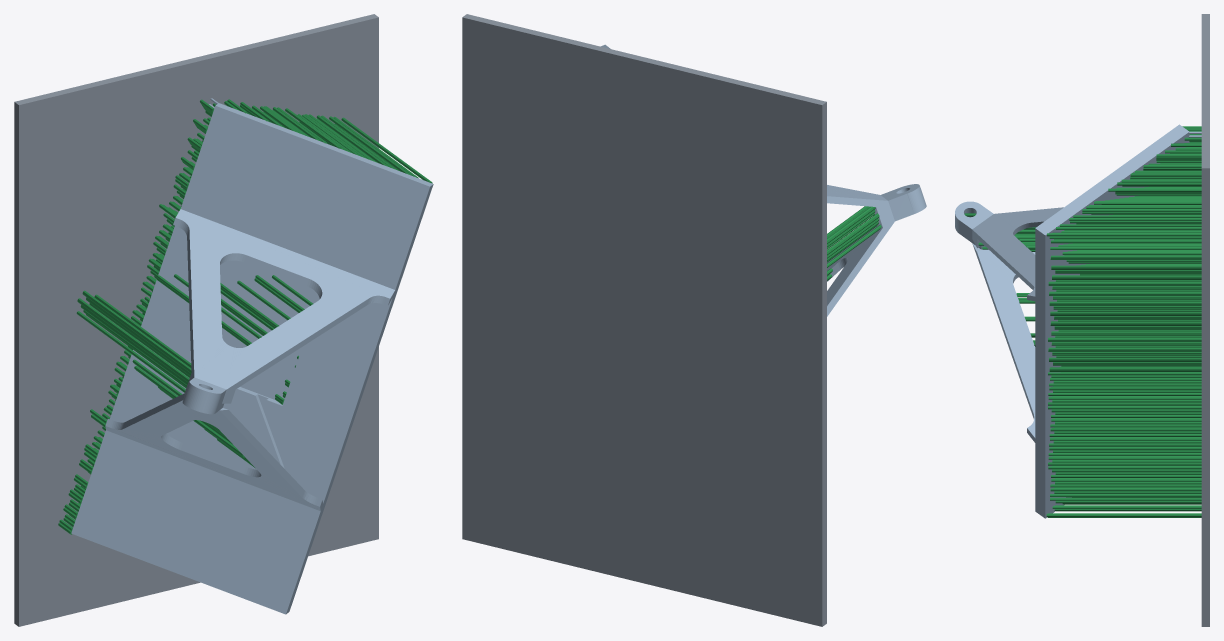
Rendered from part_with_simplified_supports_and_platform.obj.
The picture shows the model from 3 angles, left to right: view 1: azimuth 30°, elevation 25°; view 2: azimuth 150°, elevation 25°; view 3: azimuth 270°, elevation 25°; orthographic projection. The views are drawn at different scales.
Visible parts, largest first — view 1: Part, BuildPlate, SimplifiedSupportColumns; view 2: BuildPlate, Part, SimplifiedSupportColumns; view 3: SimplifiedSupportColumns, Part, BuildPlate.
Boxes of the visible parts, box(x1,y1,x2,y2) form: Part: box(67, 98, 433, 614); BuildPlate: box(14, 14, 378, 626); SimplifiedSupportColumns: box(58, 99, 432, 534); BuildPlate: box(462, 14, 826, 626); Part: box(600, 44, 926, 316); SimplifiedSupportColumns: box(827, 206, 881, 280); SimplifiedSupportColumns: box(964, 126, 1201, 517); Part: box(955, 124, 1201, 518); BuildPlate: box(1201, 14, 1209, 626).
Size of the model in its own units: 89.57 by 124 by 62.49.
